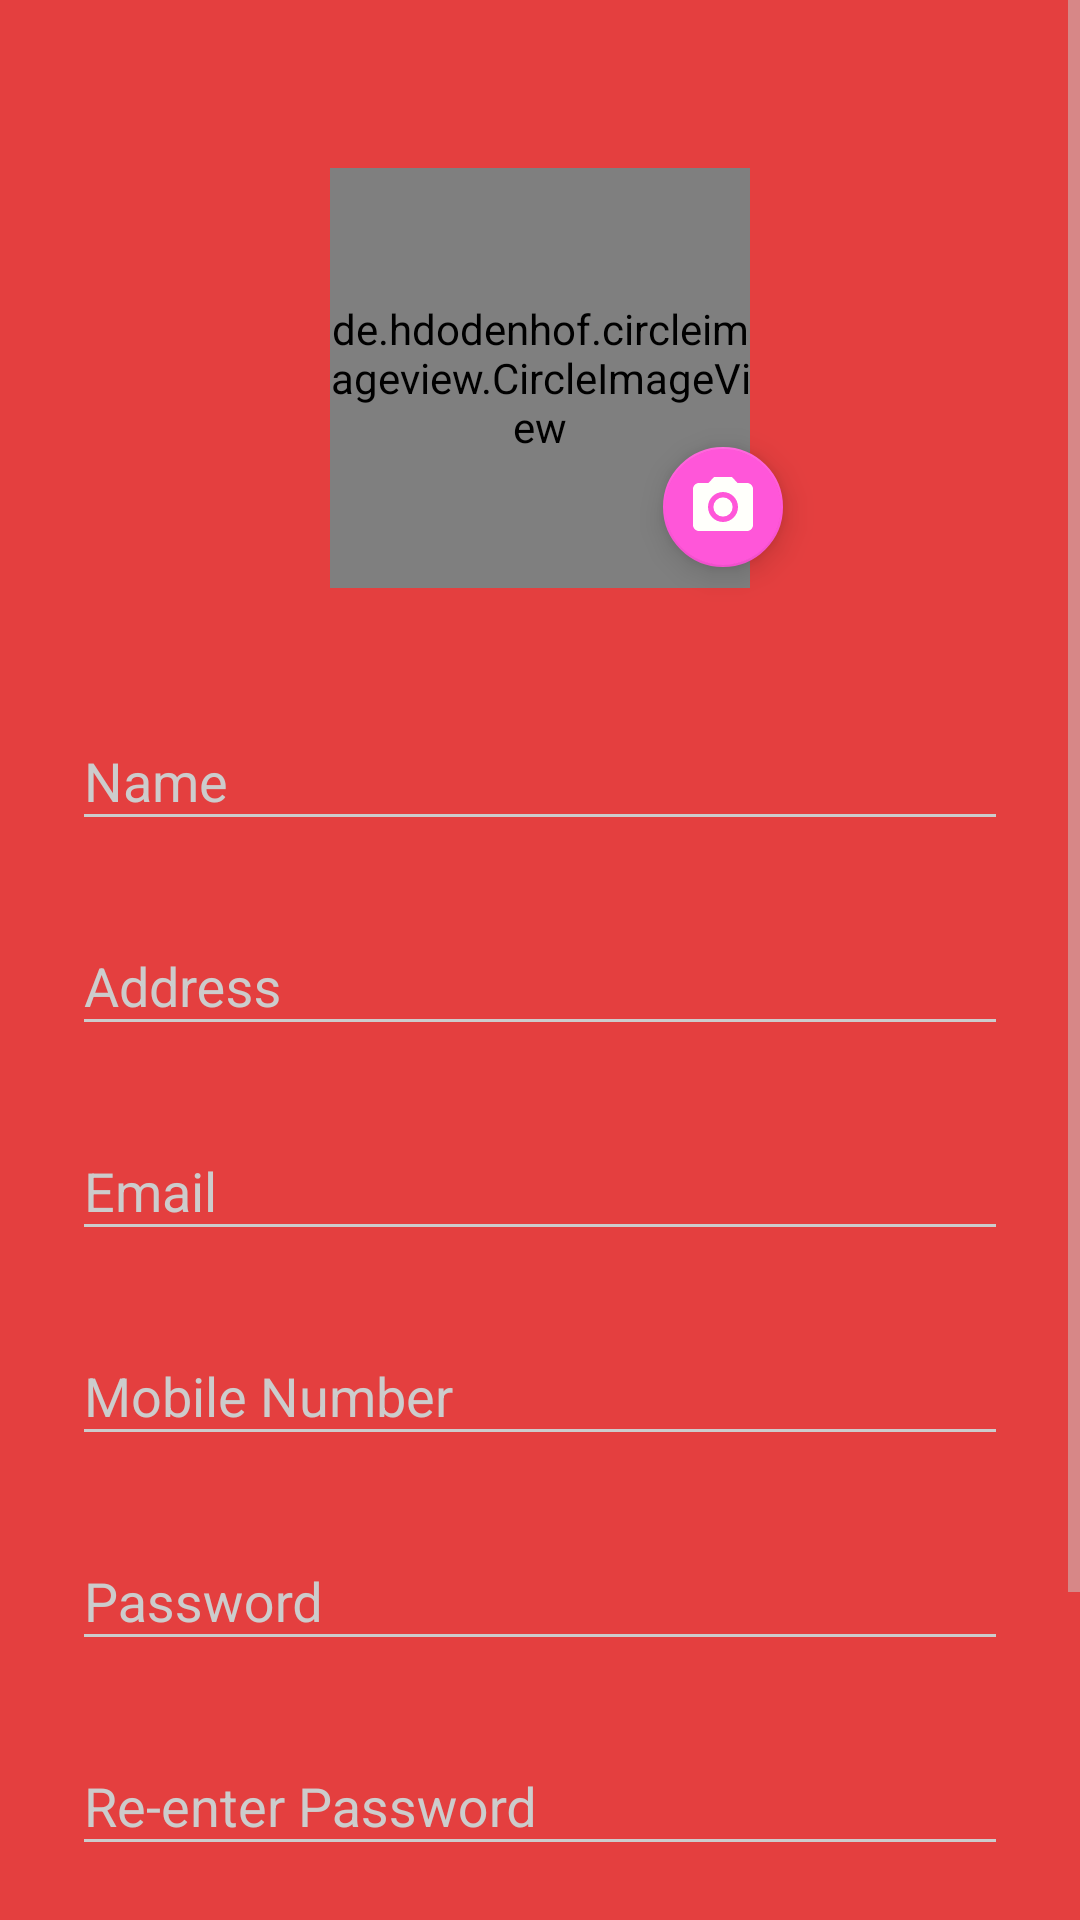

Icons on this 1080 × 1920 Android screen, each with its box as (x1, y1, x2, y2):
camera: (663, 447, 783, 567)
